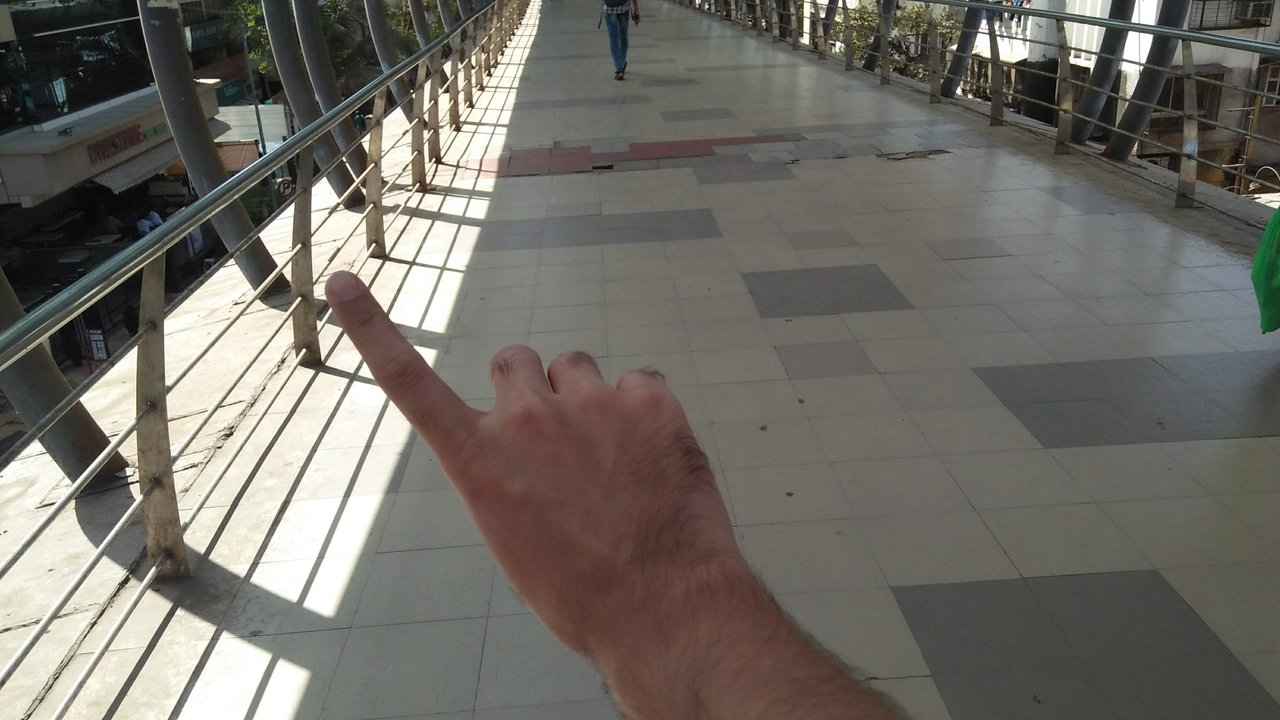fingertip: (314, 268, 370, 324)
